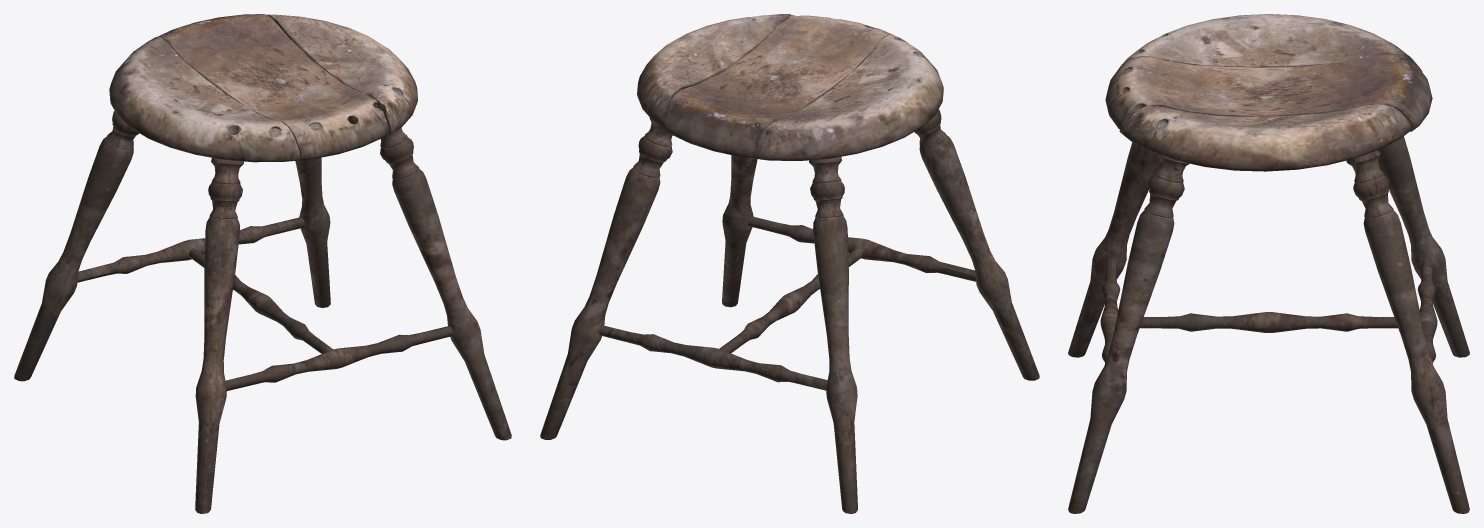
The model's file is wooden_stool_01.glb.
3 views of the same model, side by side, from view 1: azimuth 30°, elevation 25°; view 2: azimuth 150°, elevation 25°; view 3: azimuth 270°, elevation 25° (orthographic). The views are drawn at different scales.
Parts seen in each view (by area): view 1: wooden_stool_01_lod0; view 2: wooden_stool_01_lod0; view 3: wooden_stool_01_lod0.
Part boxes in pixels (<box>): wooden_stool_01_lod0: <box>14,14,511,513</box>; wooden_stool_01_lod0: <box>540,14,1039,513</box>; wooden_stool_01_lod0: <box>1068,14,1469,513</box>.
Size of what is drawn, in the model's own units: 0.4251 by 0.4374 by 0.4422.
1 material, 1 textured.
